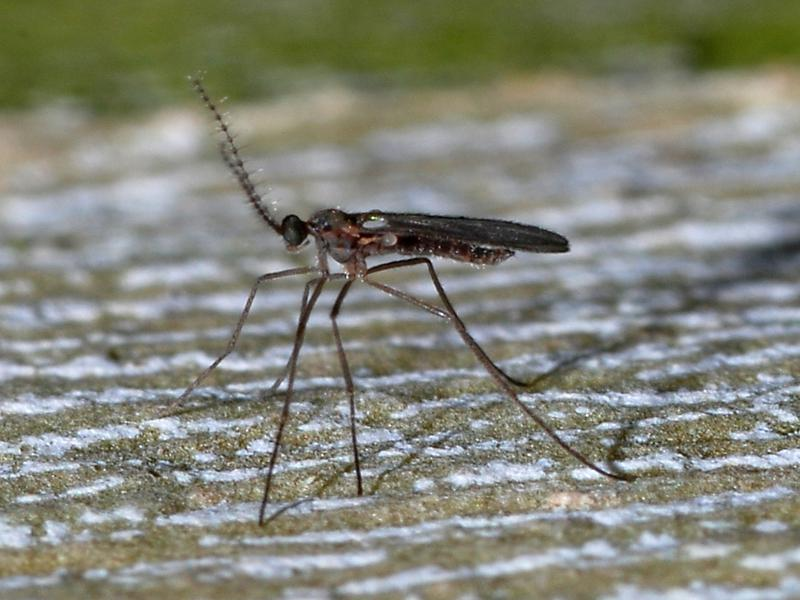Gall_midge: (221, 172, 615, 459)
